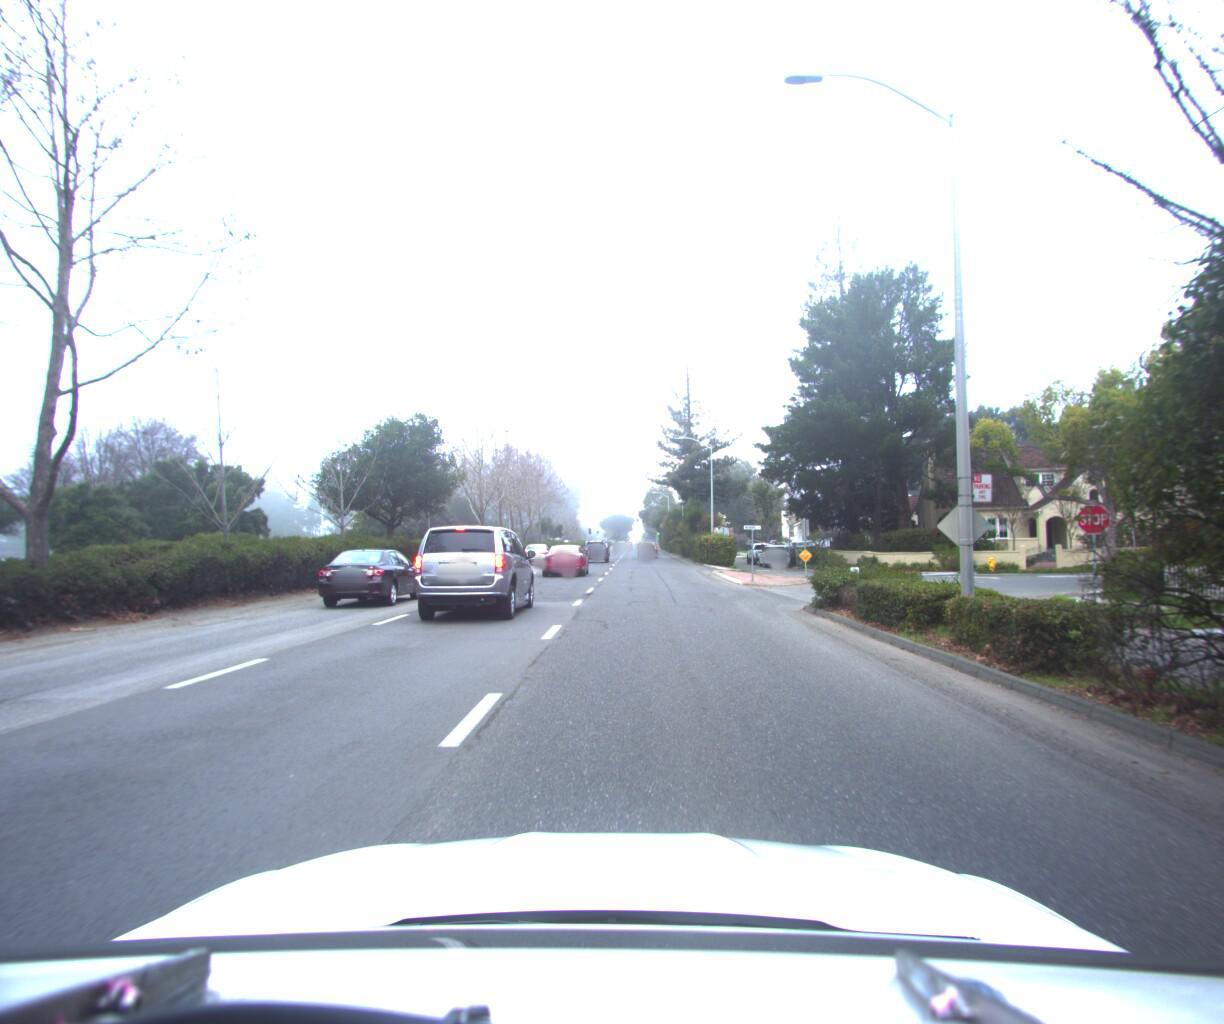car: (400, 515, 541, 623), (309, 539, 430, 605), (539, 535, 591, 571), (752, 535, 790, 560), (743, 534, 779, 557), (522, 536, 554, 559), (582, 532, 609, 556), (640, 530, 662, 551)
